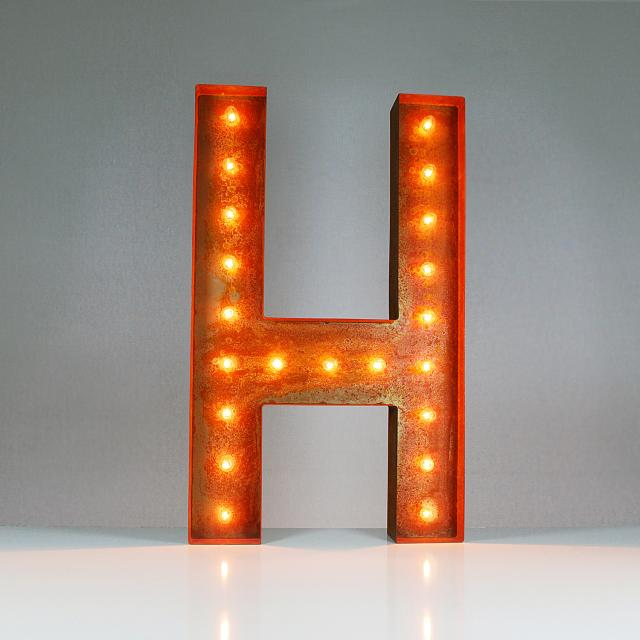H: (119, 39, 507, 582)
